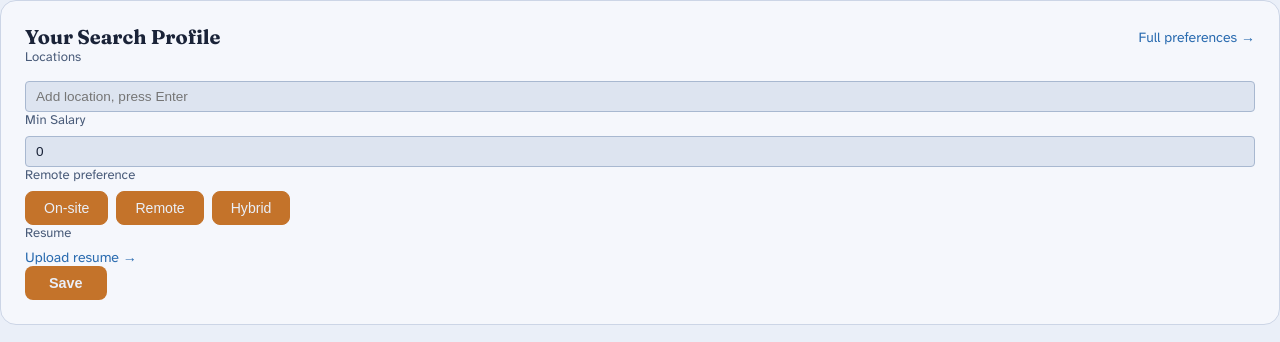
Test: ProfileSummaryCard › does not show "✓ Saved" and surfaces the error when a save fails
Click the button "Save" at (66, 283), box [25, 266, 107, 300]
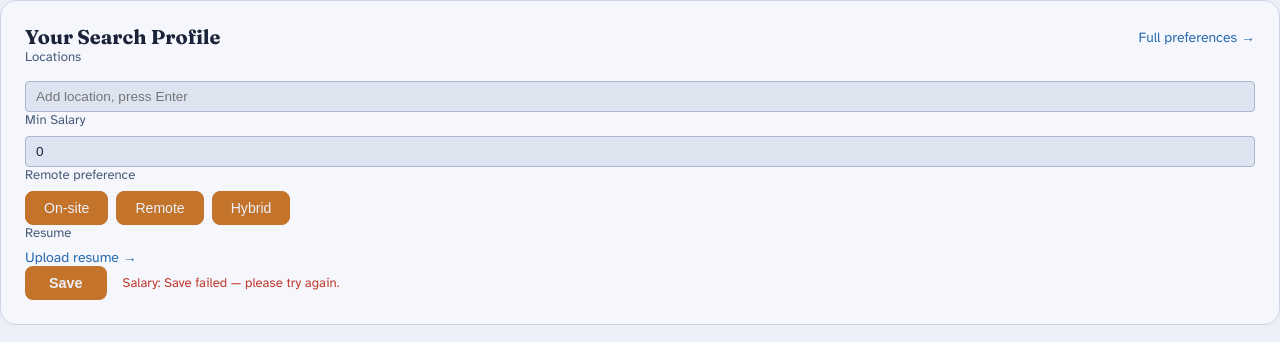
Check: the message with class "error" shows "Save failed", box [123, 275, 339, 291]
